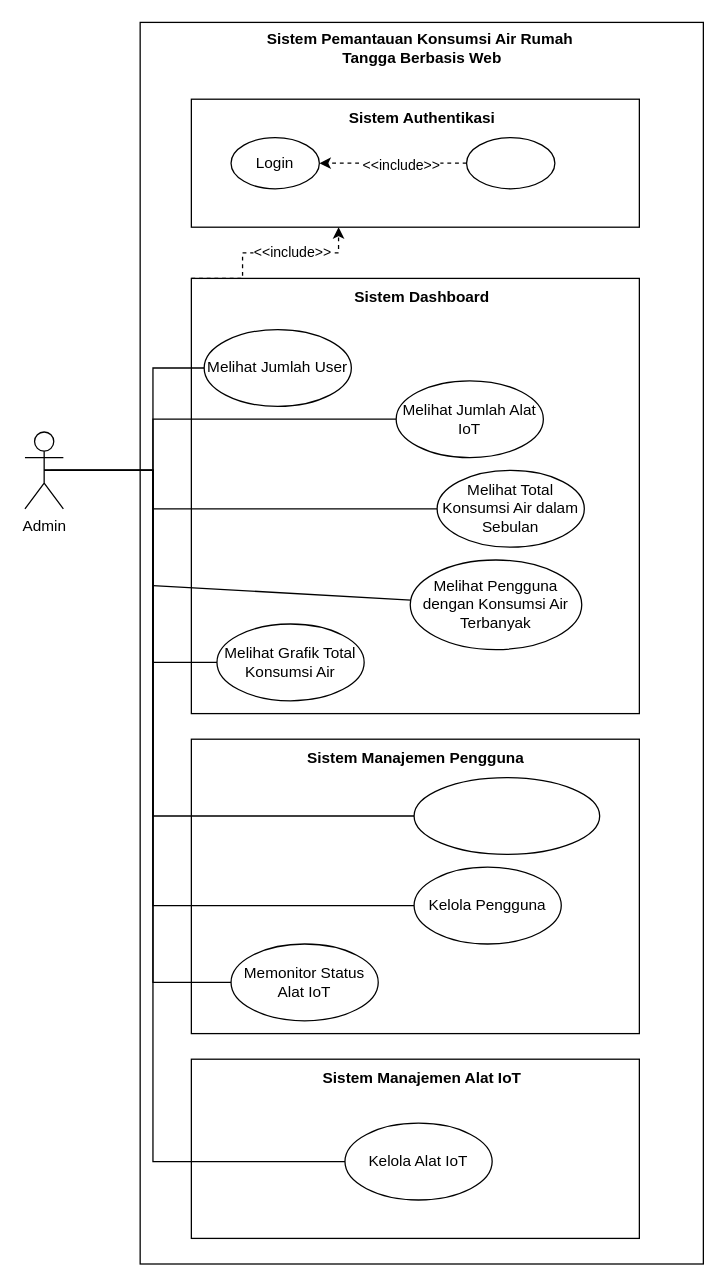
Some shapes in this 726 by 1286 pixel diagram are drawn without their labels. The box of each missing label's shape, as (x1, y1, x2, y2) in pixels:
Logout: (465, 136, 555, 189)
Memonitor Konsumsi Air Pengguna: (413, 776, 600, 854)
